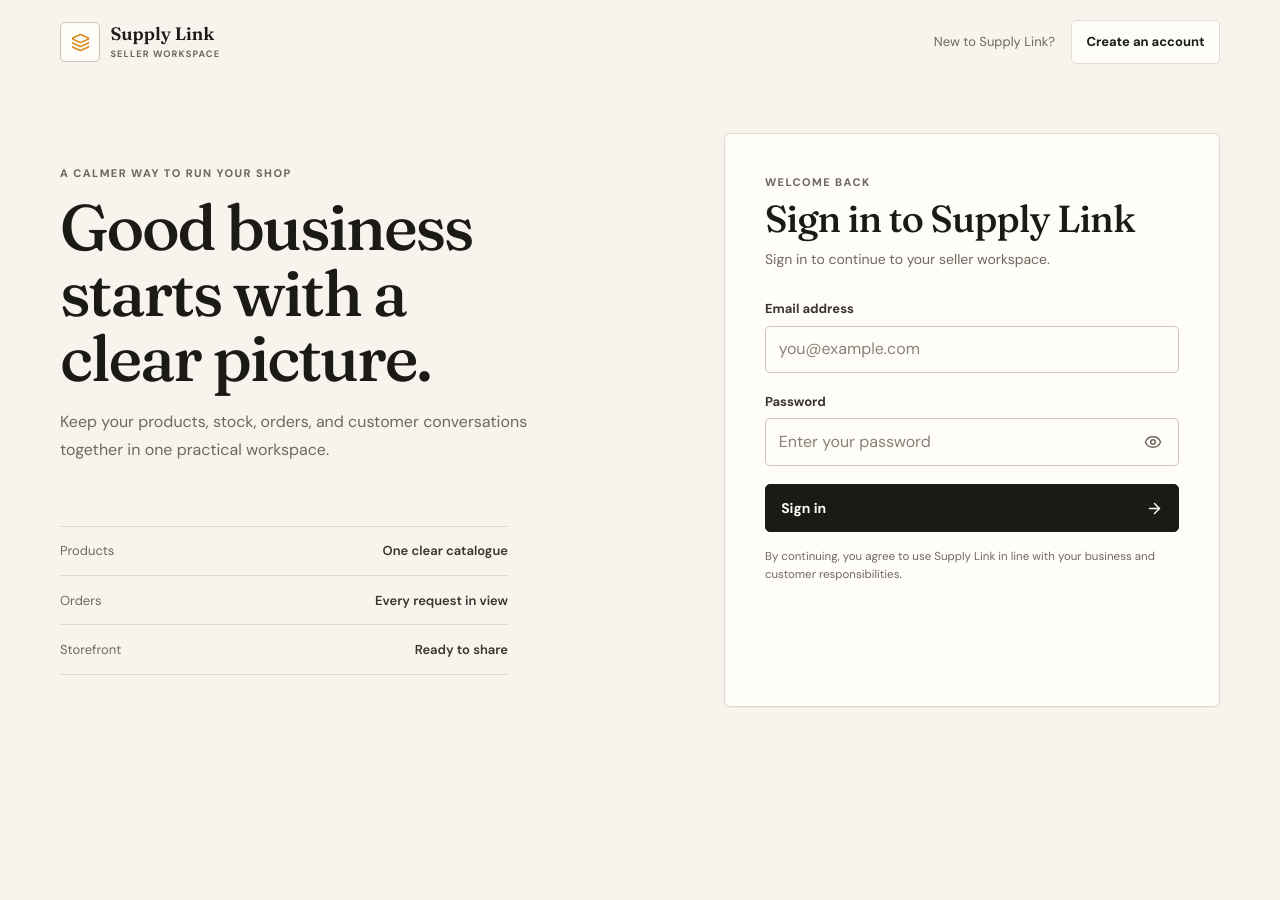
Test case: AuthPage - login › shows verification required message for unverified account
In the field labelled "Email address": (972, 350) [765, 326, 1179, 373], type "test@example.com"
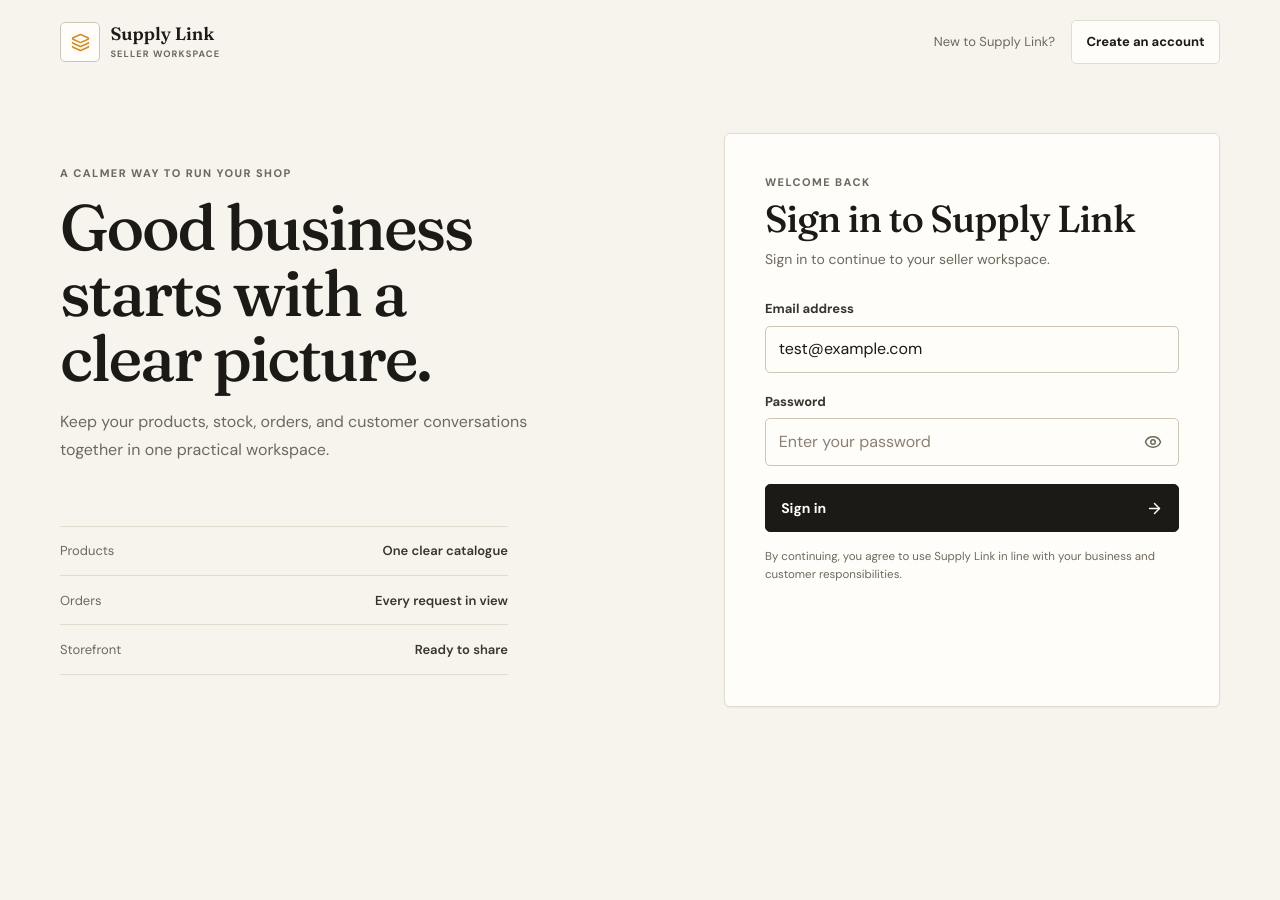
In the password field labelled "Password": (972, 442) [765, 418, 1179, 466], type "secret123"
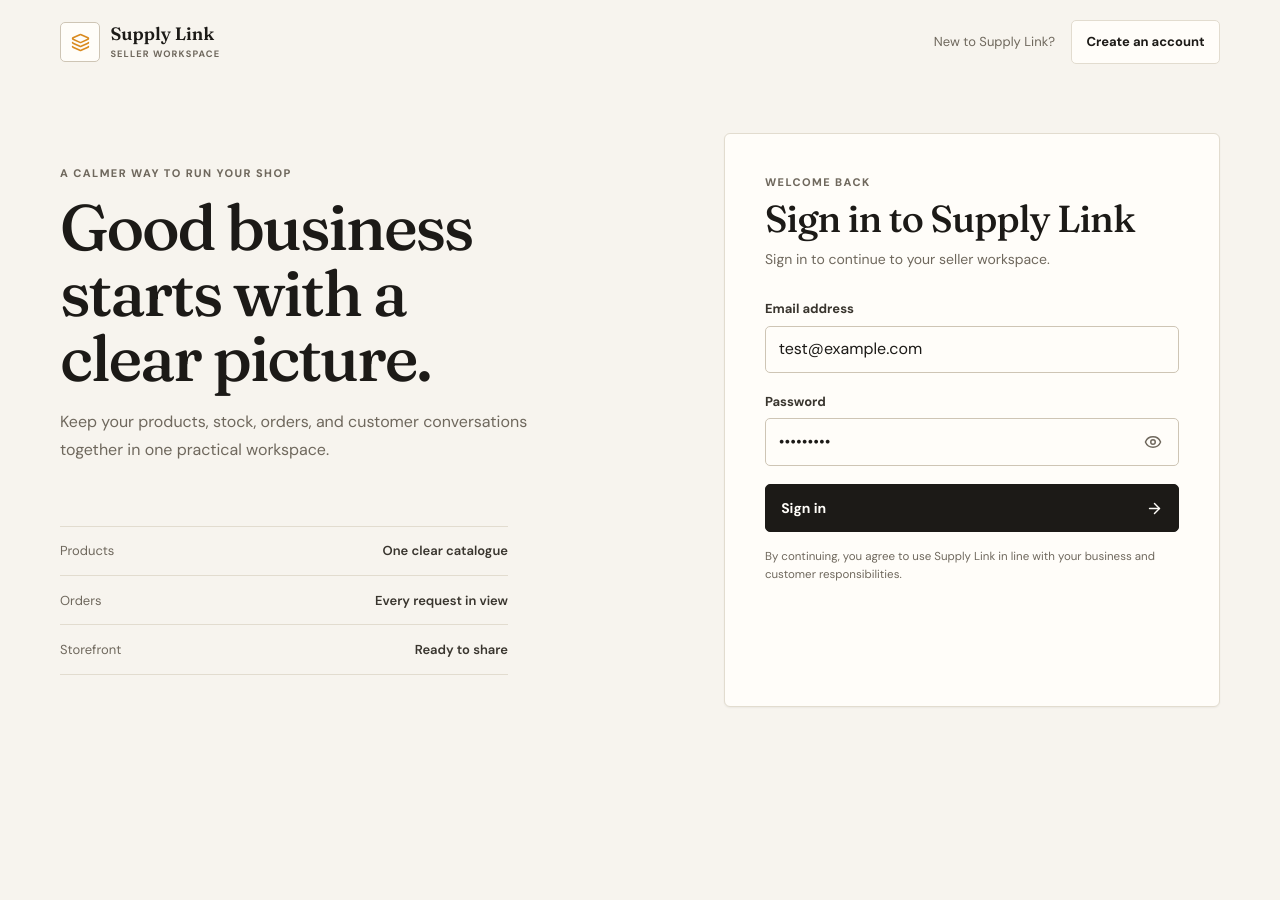
Click the button "Sign in": (804, 508) [765, 484, 1179, 532]
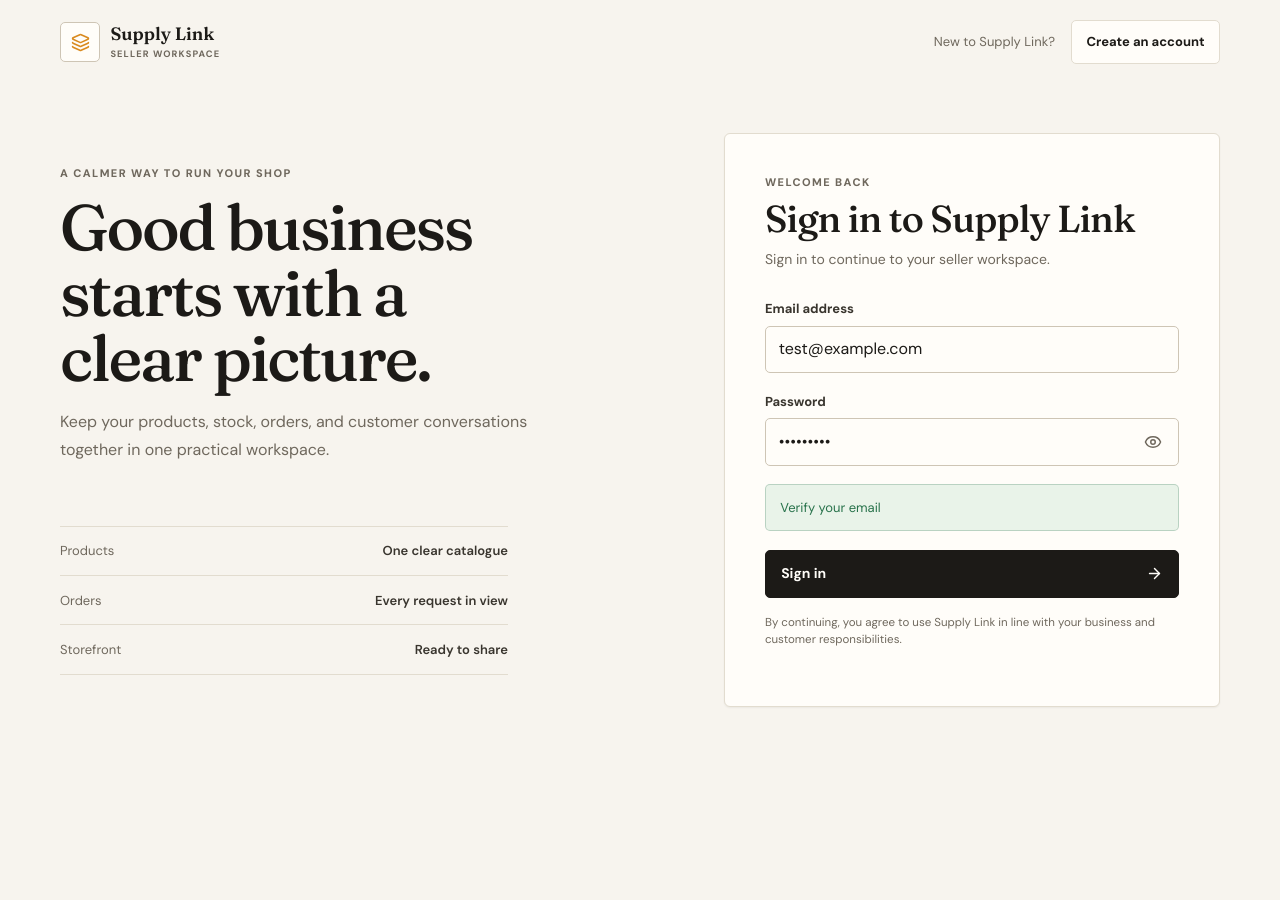
Expected: the text "Verify your email" is shown, [765, 484, 1179, 531]
